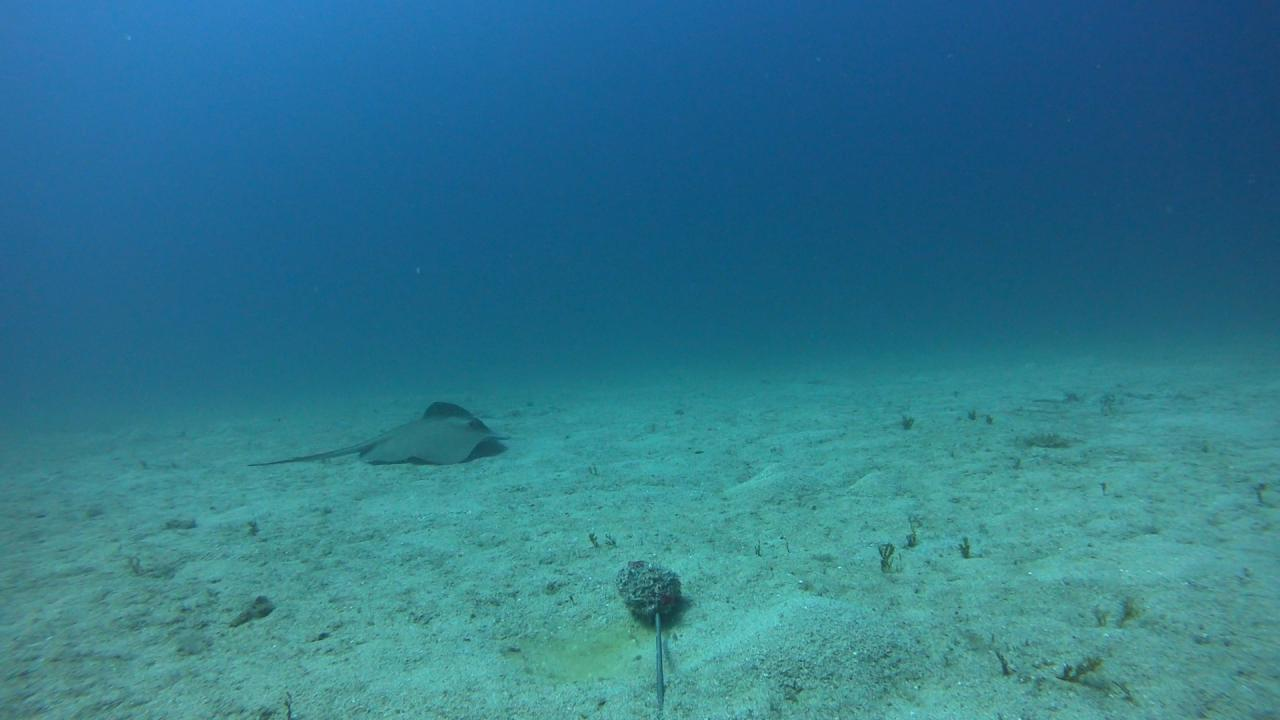dasyatis: (242, 399, 512, 467)
